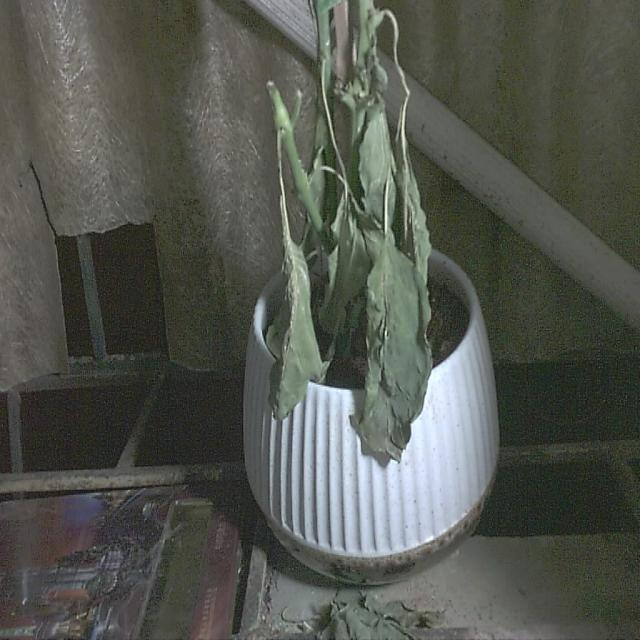Leaf: (356, 244, 434, 465)
